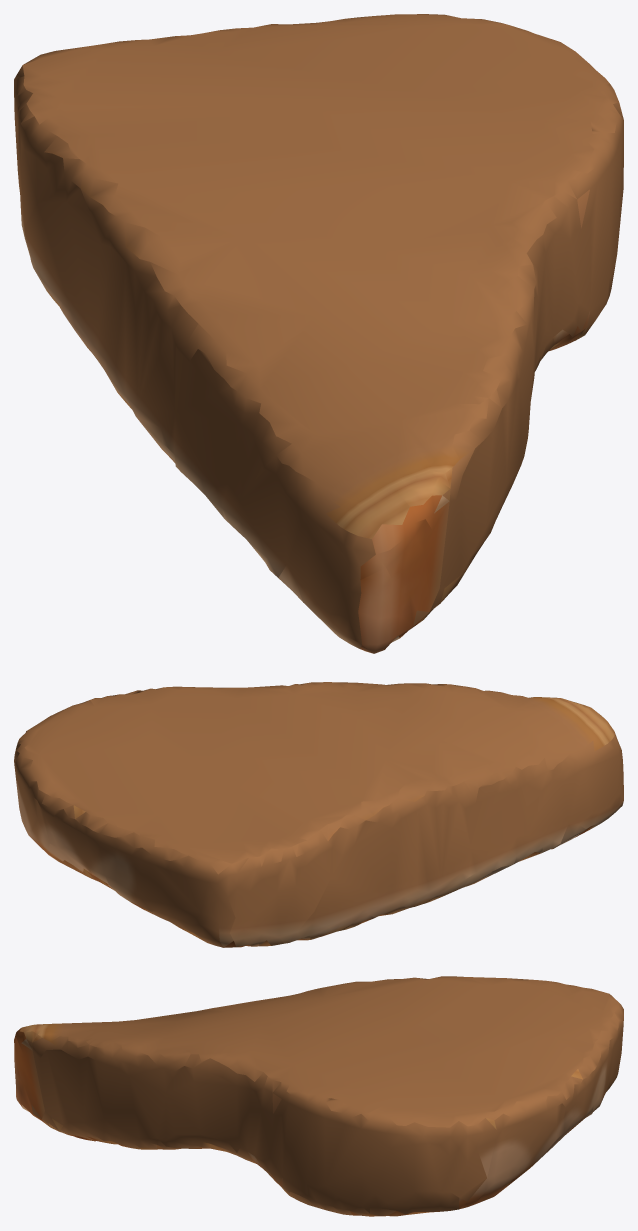
The model's file is Glacier_board09.fbx.
3 views of the same model, one above another, from view 1: azimuth 30°, elevation 25°; view 2: azimuth 150°, elevation 25°; view 3: azimuth 270°, elevation 25° (orthographic). The views are drawn at different scales.
Parts seen in each view (by area): view 1: material_0; view 2: material_0; view 3: material_0.
Boxes of the visible parts, x1,y1,x2,y2 form: material_0: (14, 14, 623, 653); material_0: (14, 682, 623, 947); material_0: (14, 976, 623, 1216).
Size of the model in its own units: 0.1608 by 0.0672 by 0.2376.
